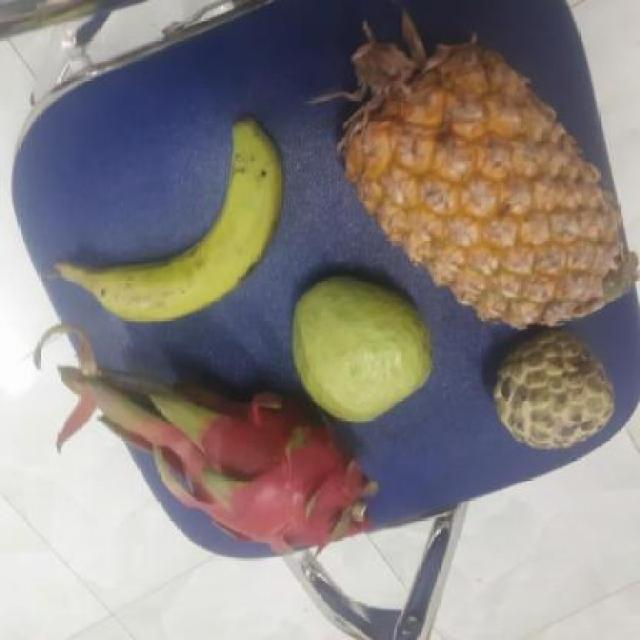banana: (64, 132, 281, 320)
dragon fruit: (173, 388, 367, 557)
guava: (288, 278, 434, 420)
pineapple: (332, 49, 616, 318)
sugar apple: (484, 328, 616, 448)
